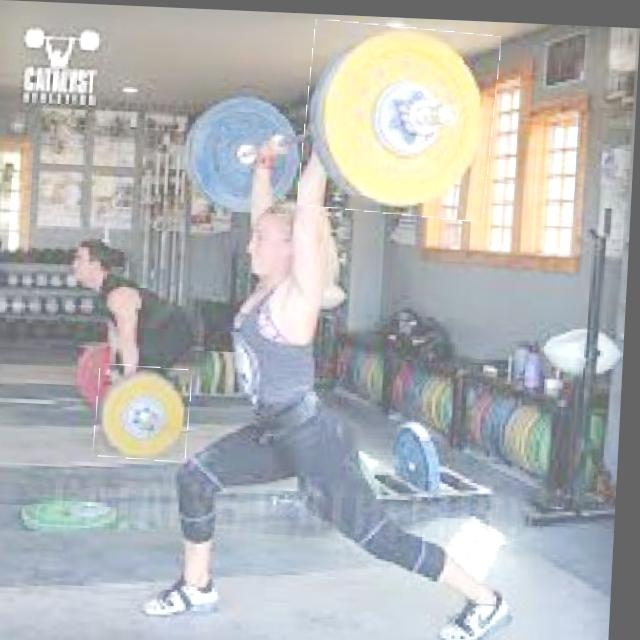barbell: (302, 19, 500, 216), (100, 365, 197, 461)
